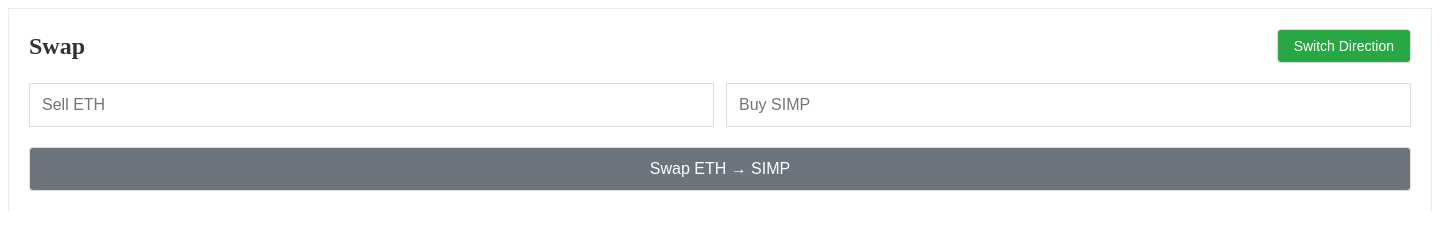
it: Swap Component › Rendering › should render Token to ETH direction when switch direction button clicked
Step 1. Click the button "Switch Direction" → (1344, 46), box [1277, 29, 1411, 63]
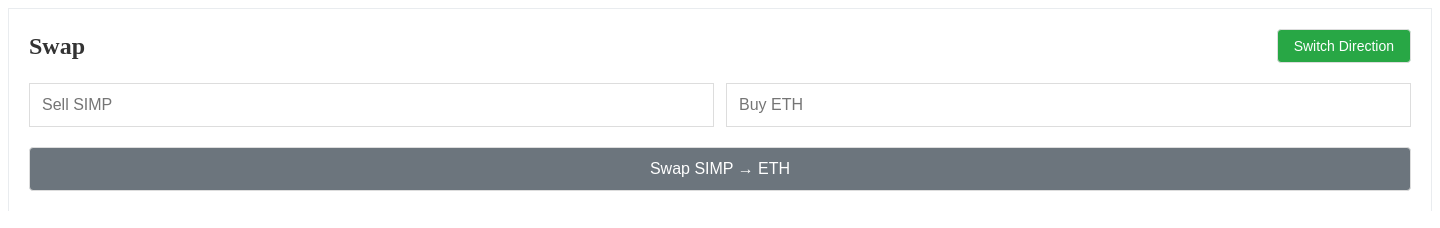
Check: the number field with placeholder "Buy ETH" is shown, box [726, 83, 1411, 127]
Check: the number field with placeholder "Sell SIMP" is shown, box [29, 83, 714, 127]
Check: the button "Swap SIMP → ETH" is shown, box [29, 147, 1411, 191]
